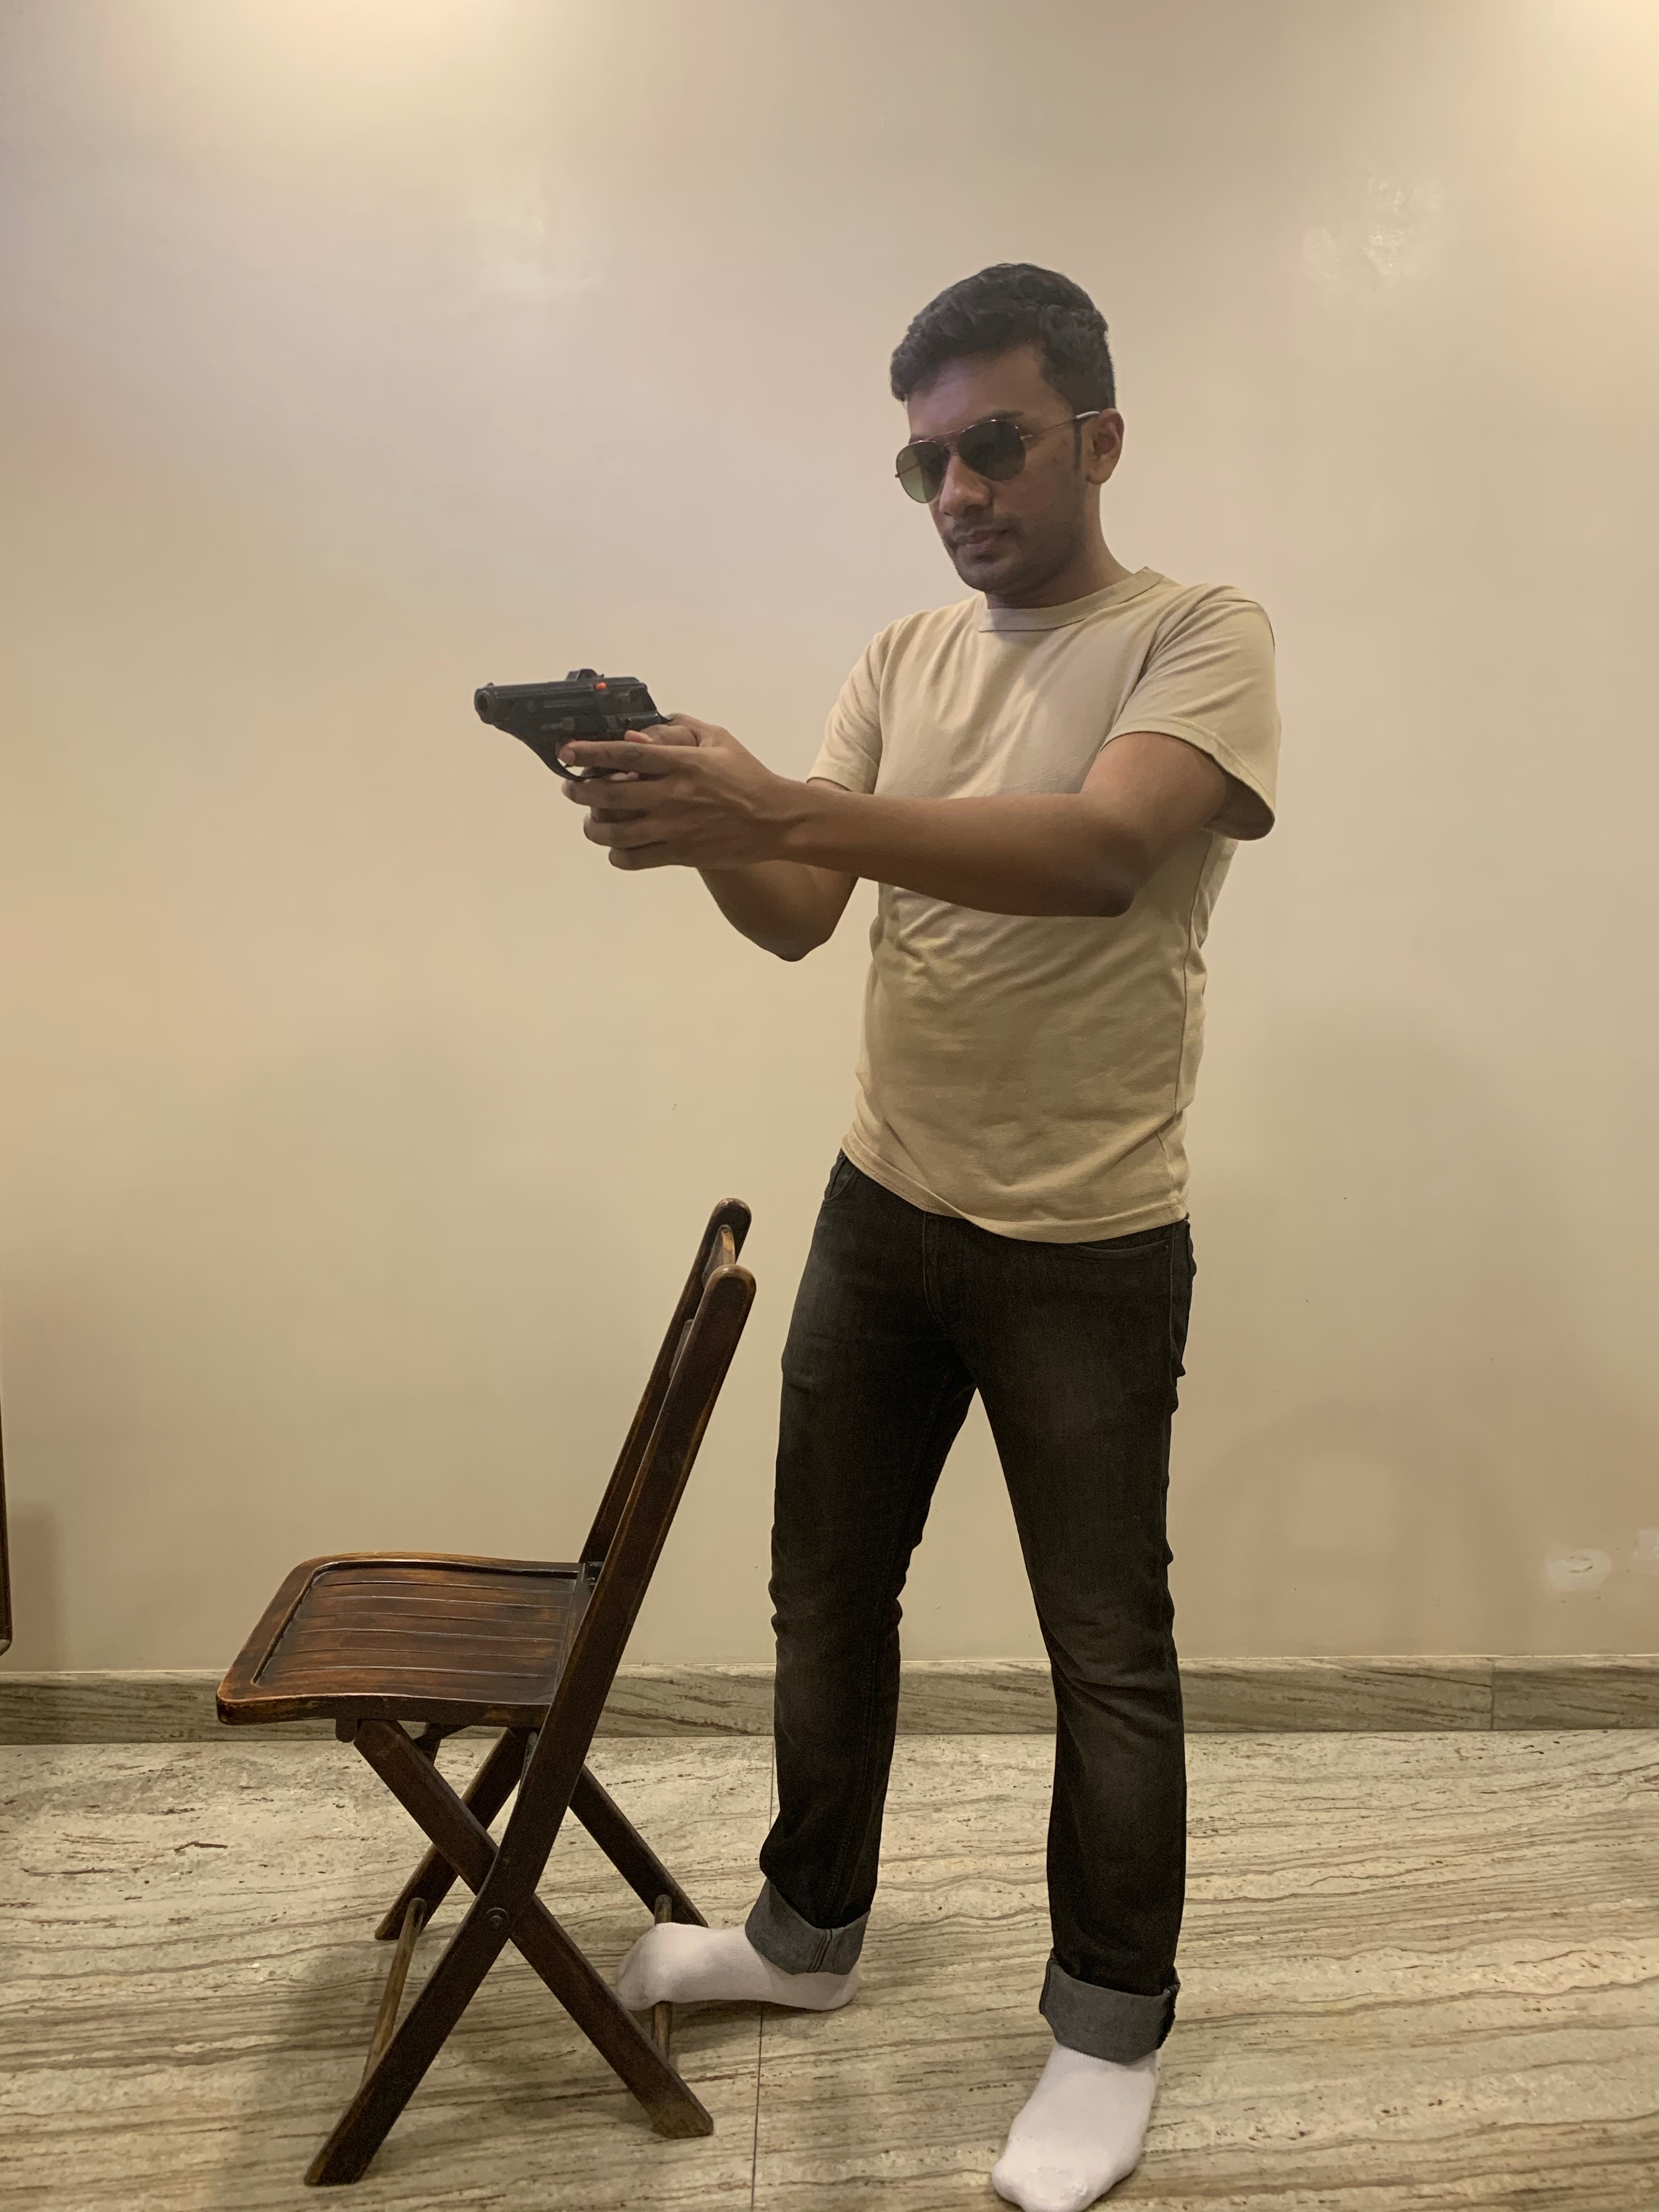gun: (469, 669, 671, 803)
